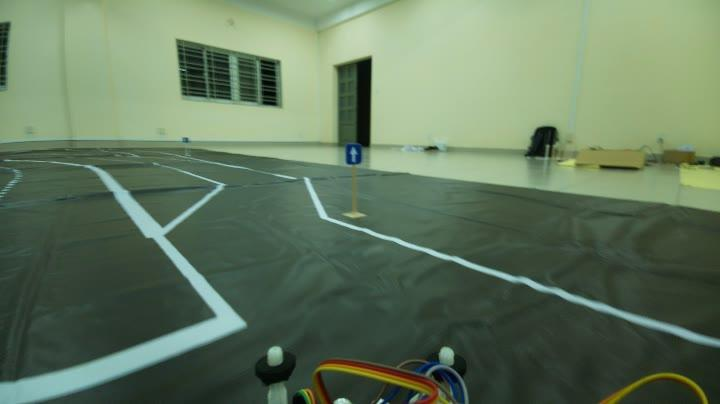onewayroad: (340, 141, 364, 167)
